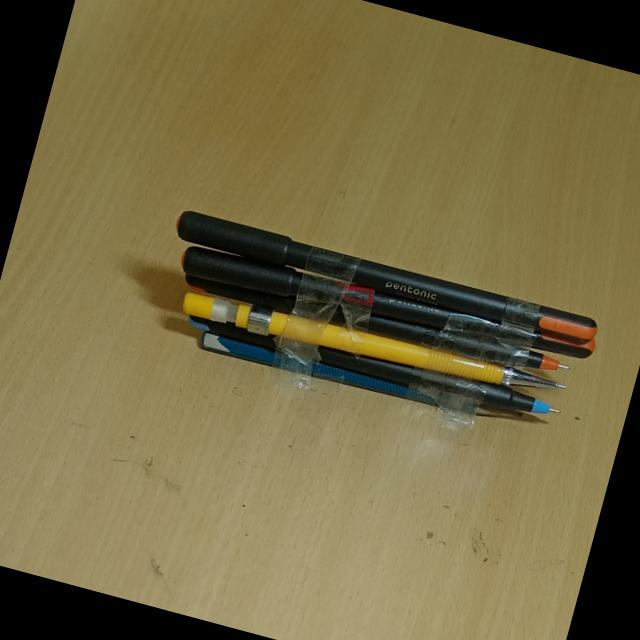pen: (165, 192, 615, 360), (148, 245, 592, 391)
